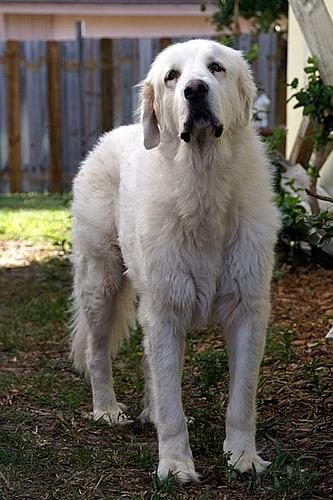dog-great_pyrenees: (140, 39, 254, 149)
